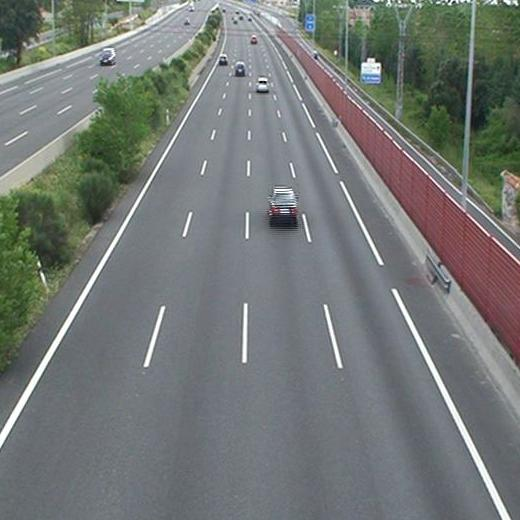car: (269, 189, 297, 219), (256, 77, 269, 92), (234, 63, 245, 74), (250, 36, 257, 44), (219, 56, 227, 63)
